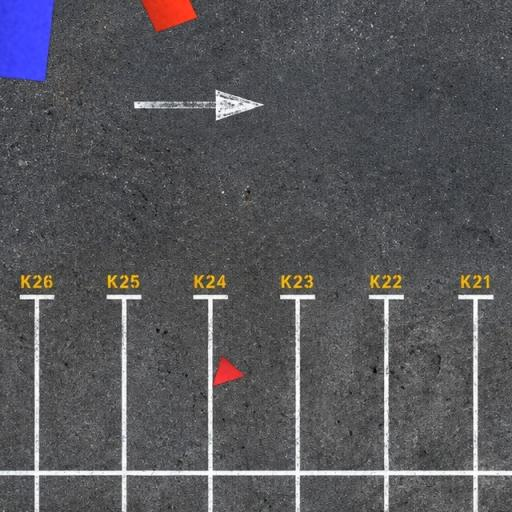BLUE_SQUARE: (0, 0, 56, 82)
RED_SQUARE: (137, 0, 198, 33)
